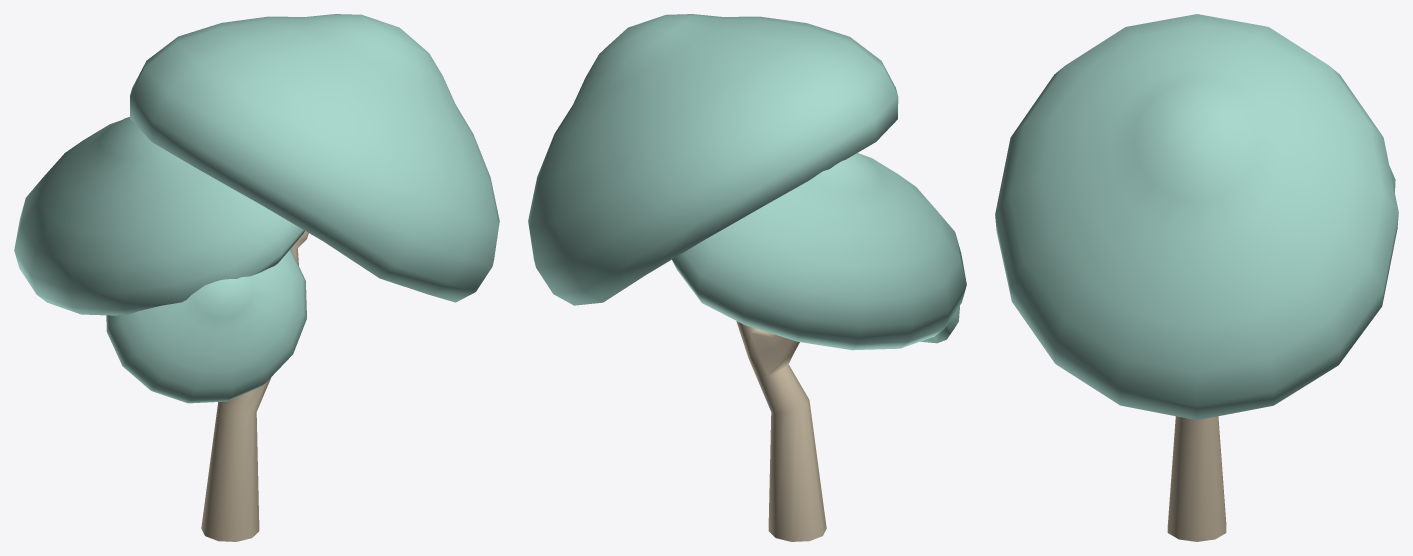
Rendered from another tree.fbx.
3 views of the same model, side by side, from view 1: azimuth 30°, elevation 25°; view 2: azimuth 150°, elevation 25°; view 3: azimuth 270°, elevation 25° (orthographic). The views are drawn at different scales.
Parts seen in each view (by area): view 1: tree_6; view 2: tree_6; view 3: tree_6.
Part boxes in pixels (x1,y1,x2,y2): tree_6: [14, 14, 499, 541]; tree_6: [528, 14, 966, 541]; tree_6: [995, 14, 1398, 541].
Size of the model in its own units: 21.6 by 23.73 by 17.01.
